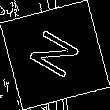N_SE: (23, 25, 87, 85)
